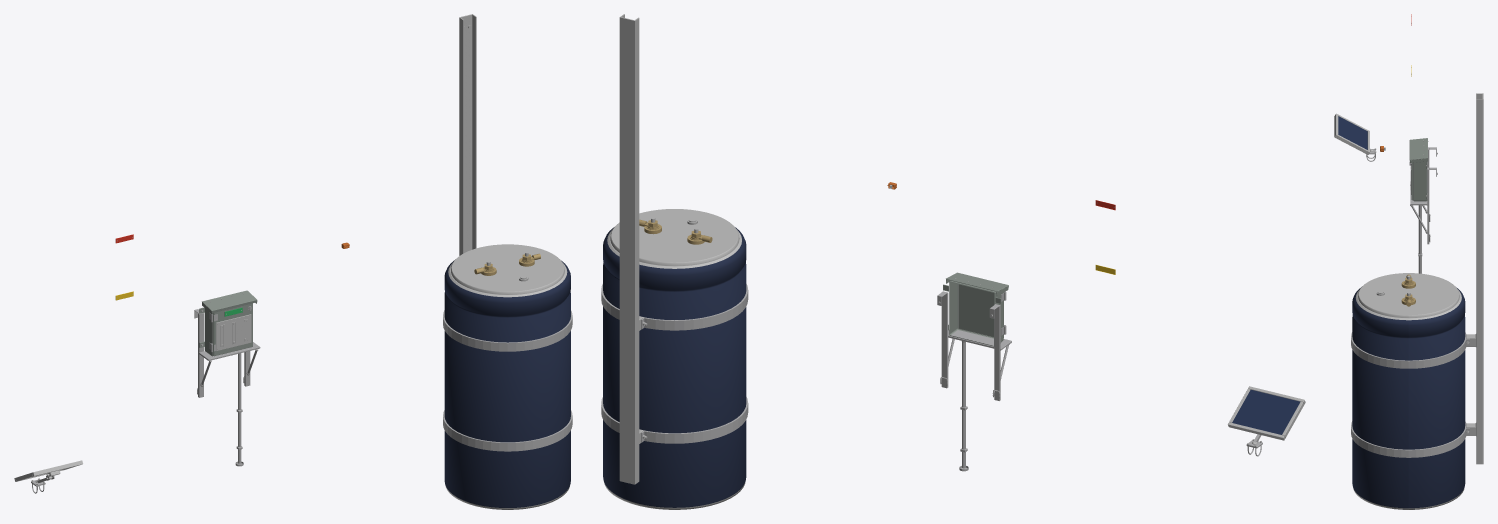
The model's file is tower_kit.glb.
3 views of the same model, side by side, from view 1: azimuth 30°, elevation 25°; view 2: azimuth 150°, elevation 25°; view 3: azimuth 270°, elevation 25° (orthographic). The views are drawn at different scales.
Visible parts, largest first — view 1: CAP_k_sleeve, CAP_k_chan, CAP_k_phenolic, CAP_k_galv, BOX_k_paint, BOX_k_galv, BOX_k_bezel, CAP_k_alu; view 2: CAP_k_sleeve, CAP_k_chan, CAP_k_phenolic, BOX_k_paint, CAP_k_galv, BOX_k_galv, PANEL_k_cell, CAP_k_alu, PANEL_k_frame; view 3: CAP_k_sleeve, CAP_k_phenolic, CAP_k_chan, CAP_k_galv, BOX_k_paint, BOX_k_galv, CAP_k_alu, PANEL_k_cell, PANEL_k_frame, CAP_k_brass.
Part boxes in pixels (<box>): CAP_k_sleeve: <box>444,260,570,507</box>; CAP_k_chan: <box>459,14,476,255</box>; CAP_k_phenolic: <box>451,244,564,294</box>; CAP_k_galv: <box>443,310,572,451</box>; BOX_k_paint: <box>199,290,257,356</box>; BOX_k_galv: <box>194,306,260,466</box>; BOX_k_bezel: <box>216,314,251,351</box>; CAP_k_alu: <box>445,263,569,509</box>; CAP_k_sleeve: <box>603,227,746,507</box>; CAP_k_chan: <box>619,14,643,484</box>; CAP_k_phenolic: <box>610,209,739,265</box>; BOX_k_paint: <box>943,272,1008,346</box>; CAP_k_galv: <box>601,284,748,443</box>; BOX_k_galv: <box>937,291,1011,471</box>; PANEL_k_cell: <box>1232,390,1300,434</box>; CAP_k_alu: <box>604,229,745,509</box>; PANEL_k_frame: <box>1228,386,1305,440</box>; CAP_k_sleeve: <box>1352,287,1465,508</box>; CAP_k_phenolic: <box>1358,273,1459,317</box>; CAP_k_chan: <box>1466,93,1483,464</box>; CAP_k_galv: <box>1351,332,1469,457</box>; BOX_k_paint: <box>1409,138,1428,201</box>; BOX_k_galv: <box>1409,147,1436,273</box>; CAP_k_alu: <box>1353,290,1464,509</box>; PANEL_k_cell: <box>1338,116,1367,149</box>; PANEL_k_frame: <box>1334,113,1369,154</box>; CAP_k_brass: <box>1401,274,1415,306</box>.
Bounding box in the file's own units: 4.19 × 3.07 × 1.06.
